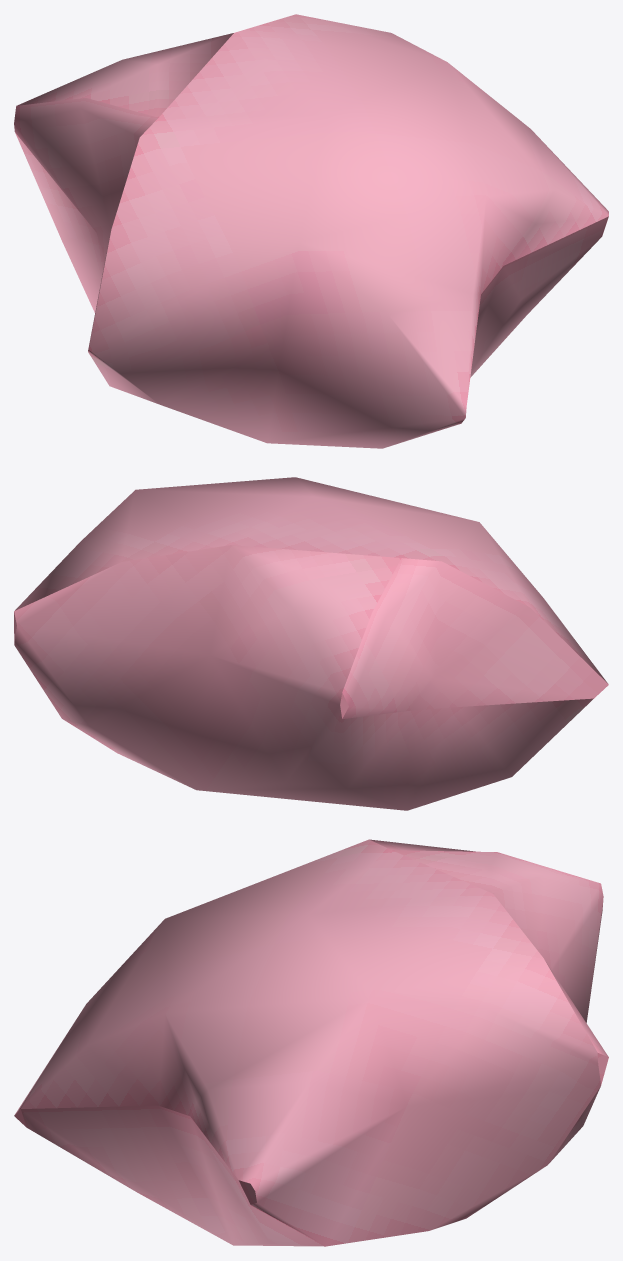
File: GTPaperStar.glb
3 views of the same model, one above another, from view 1: azimuth 30°, elevation 25°; view 2: azimuth 150°, elevation 25°; view 3: azimuth 270°, elevation 25° (orthographic). The views are drawn at different scales.
Parts seen in each view (by area): view 1: ZZXX; view 2: ZZXX; view 3: ZZXX.
Boxes of the visible parts, <box> form: ZZXX: <box>14,14,608,448</box>; ZZXX: <box>14,477,608,810</box>; ZZXX: <box>14,839,608,1246</box>.
Bounding box in the file's own units: 0.6973 × 0.3815 × 0.6663.
Materials: 1 (1 with a texture image).
